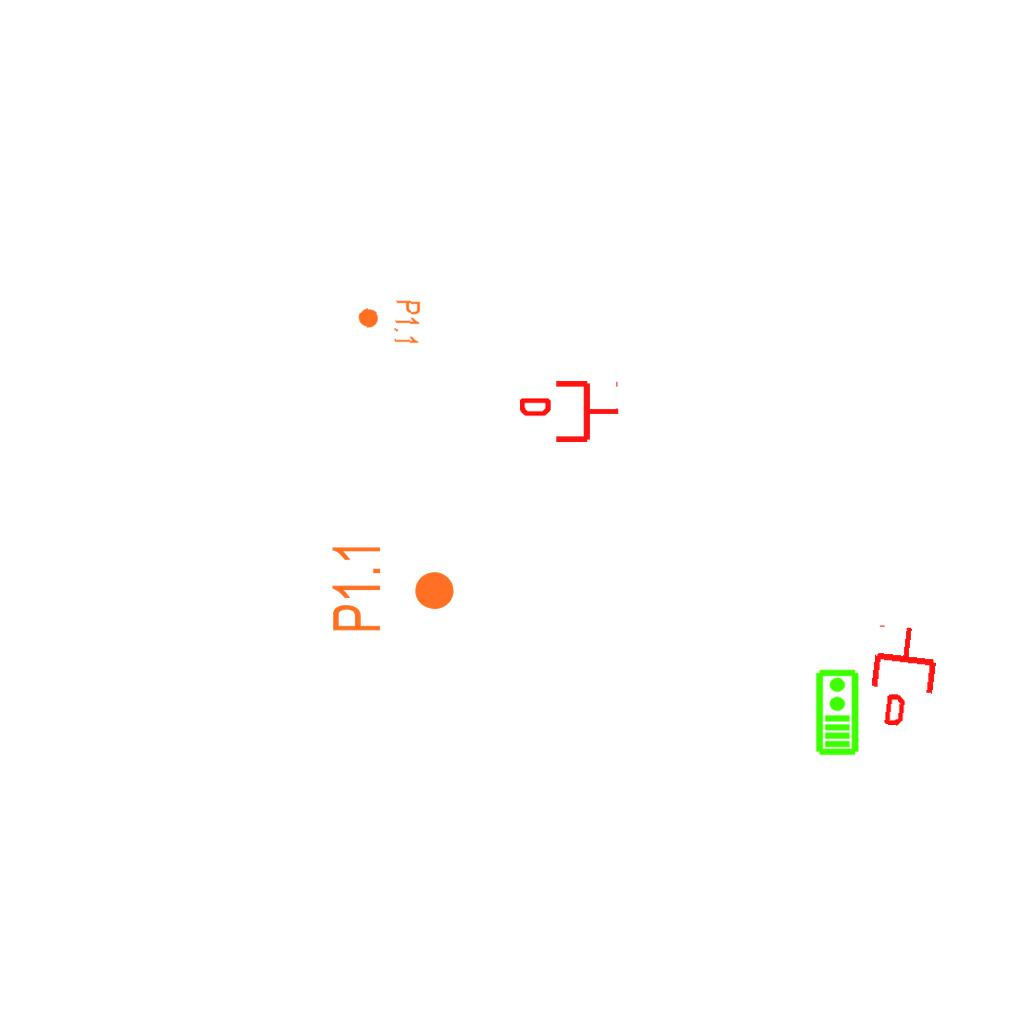Datenanschluss_einfach: (863, 622, 944, 730), (520, 377, 620, 446)
Downlight_LED_Einbauleuchten_Flur: (329, 541, 457, 634), (355, 295, 423, 347)
Gegensprechanlage_mit_Video: (813, 668, 860, 756)
